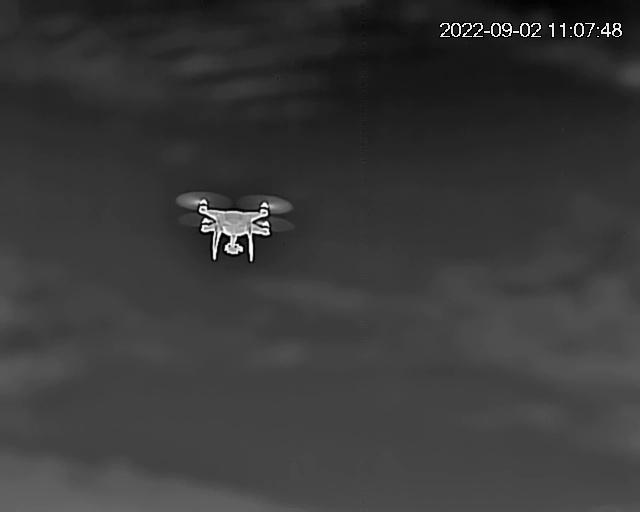DJI-Phantom: (180, 191, 292, 260)
